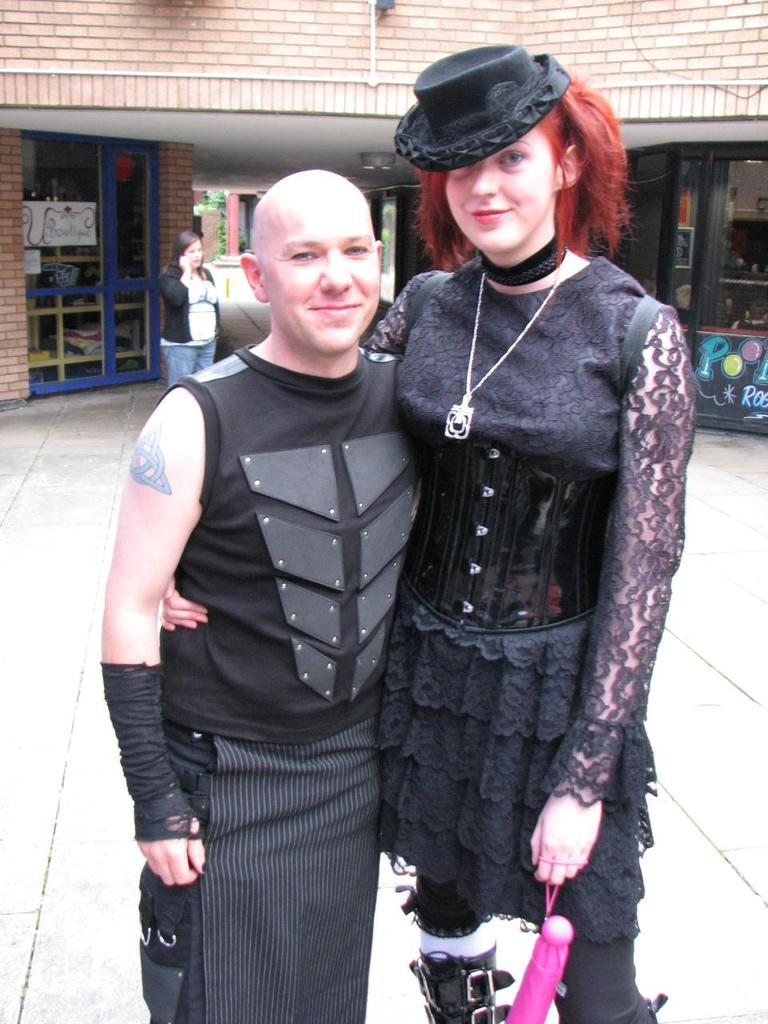Hat: (392, 36, 572, 172)
